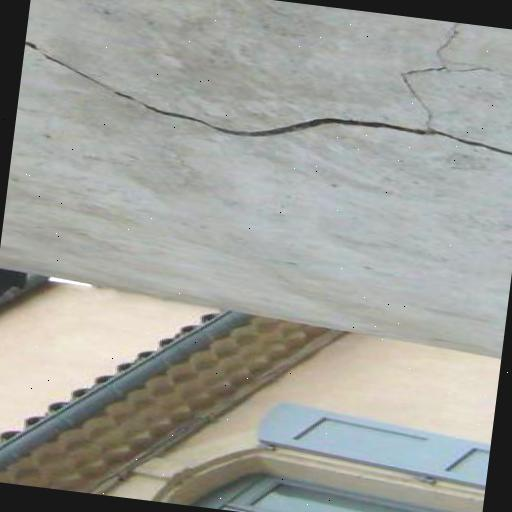spalling: (27, 40, 512, 163), (390, 31, 469, 122)
